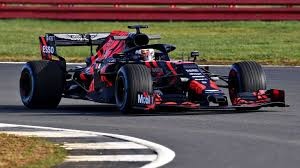f1_car: (16, 20, 294, 119)
